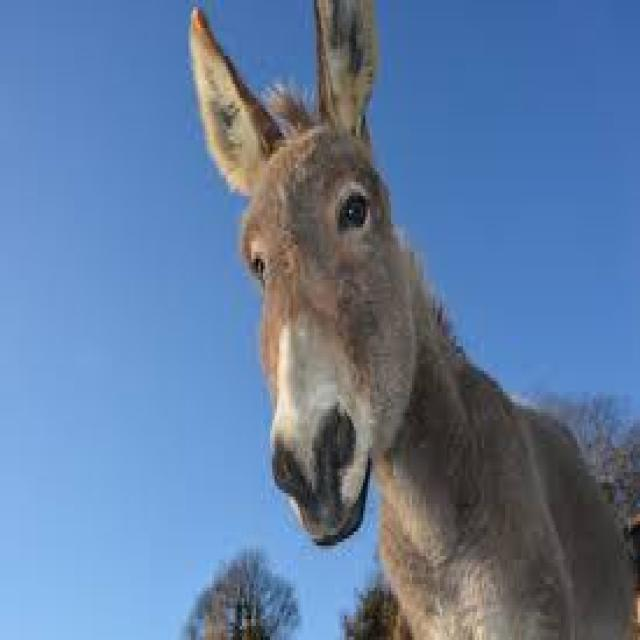Donkey: (99, 0, 612, 640)
